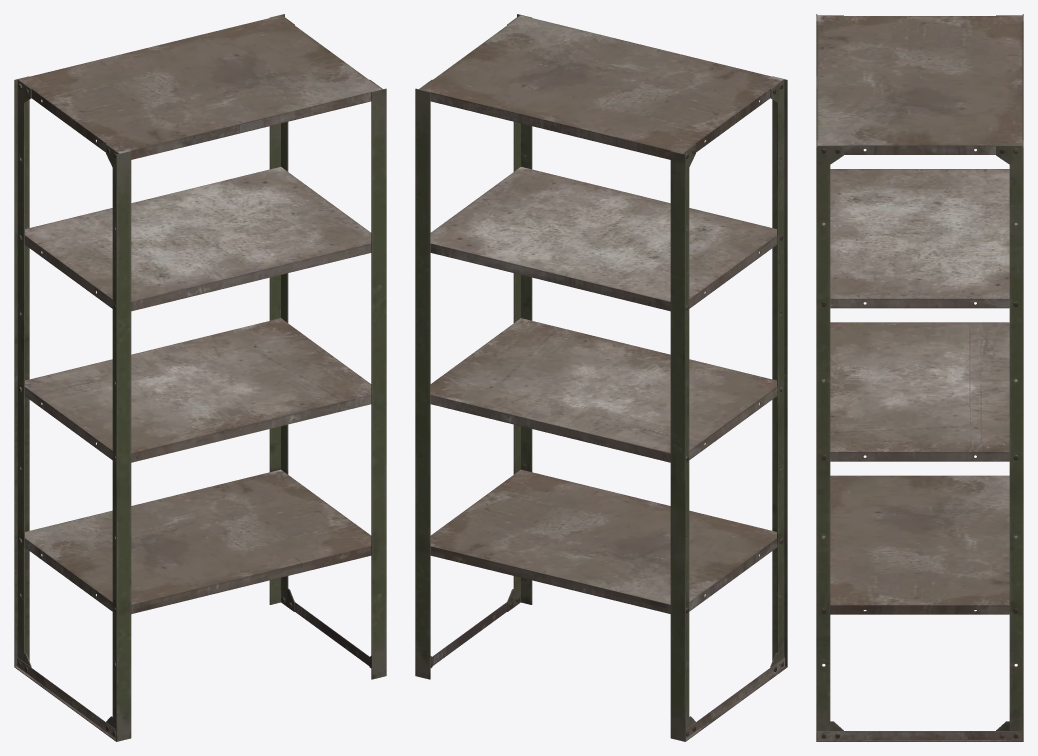
File: metal_rack.glb
The picture shows the model from 3 angles, left to right: view 1: azimuth 30°, elevation 25°; view 2: azimuth 150°, elevation 25°; view 3: azimuth 270°, elevation 25°; orthographic projection.
Parts seen in each view (by area): view 1: worn_metal_rack; view 2: worn_metal_rack; view 3: worn_metal_rack.
Boxes of the visible parts, x1,y1,x2,y2 form: worn_metal_rack: (14, 14, 386, 741); worn_metal_rack: (415, 14, 787, 741); worn_metal_rack: (816, 14, 1023, 741).
Size of the model in its own units: 0.9153 by 1.9 by 0.6001.
1 material, 1 textured.
